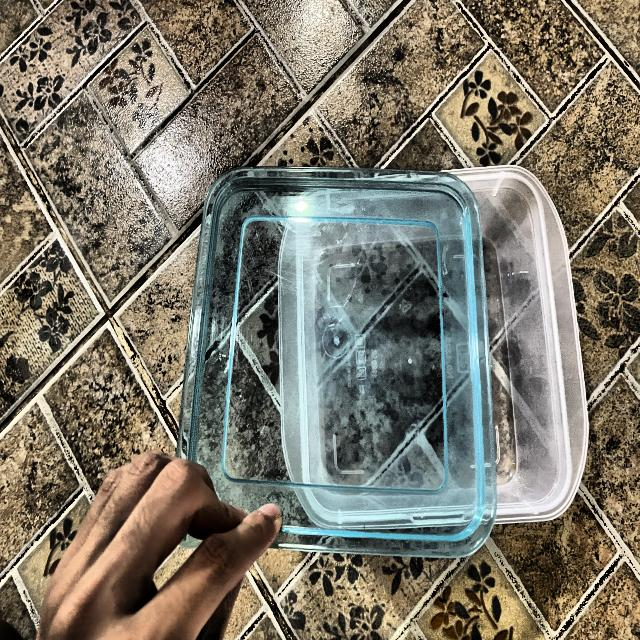plastic container: (168, 142, 598, 564)
